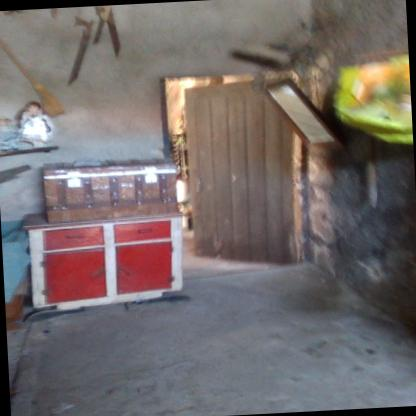semi: (150, 59, 306, 282)
